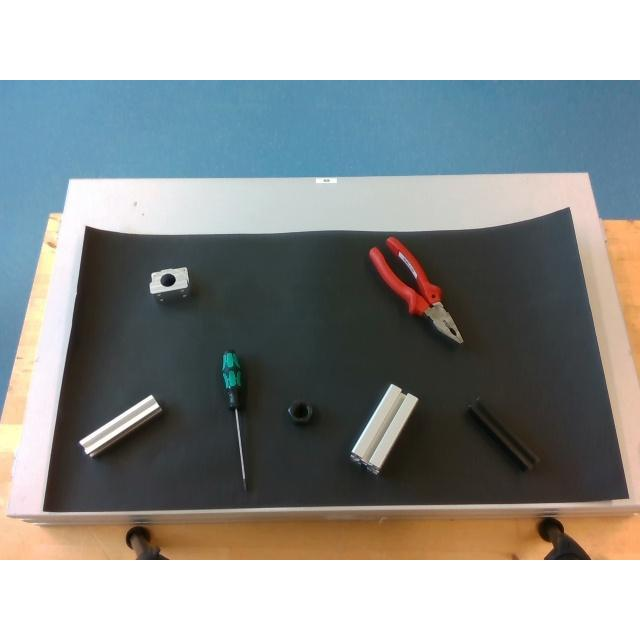F20_20_B: (468, 398, 540, 470)
F20_20_G: (78, 396, 162, 456)
M20: (288, 400, 312, 424)
S40_40_G: (351, 386, 417, 474)
Screwdriver: (220, 350, 246, 490)
